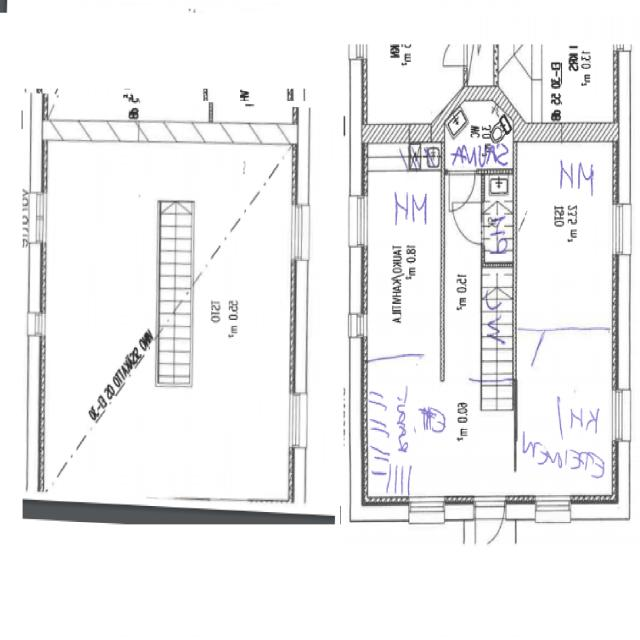door: (476, 495, 504, 561), (454, 204, 484, 244), (450, 168, 475, 212), (519, 329, 544, 369), (198, 391, 220, 428), (147, 363, 166, 396), (120, 364, 139, 396)
